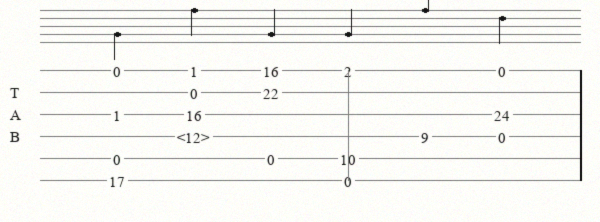0: (113, 63, 125, 77), (113, 151, 125, 165), (190, 85, 202, 99), (267, 151, 279, 165), (344, 173, 356, 187), (498, 129, 510, 143), (498, 63, 510, 77)
1: (113, 107, 125, 121), (190, 63, 202, 77)
10: (340, 151, 360, 165)
16: (186, 107, 206, 121), (263, 63, 283, 77)
17: (109, 173, 129, 187)
2: (344, 63, 356, 77)
22: (263, 85, 283, 99)
24: (494, 107, 514, 121)
9: (421, 129, 433, 143)
harmonic: (177, 129, 214, 143)
